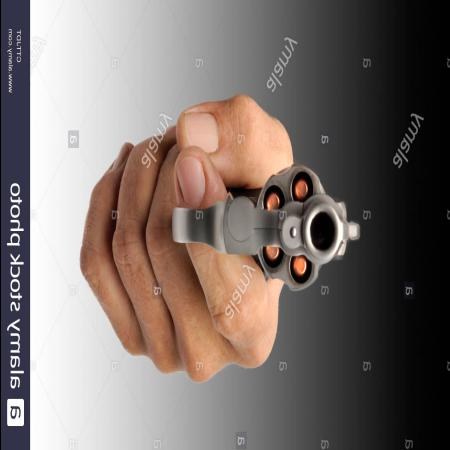Pistol: (164, 164, 360, 301)
